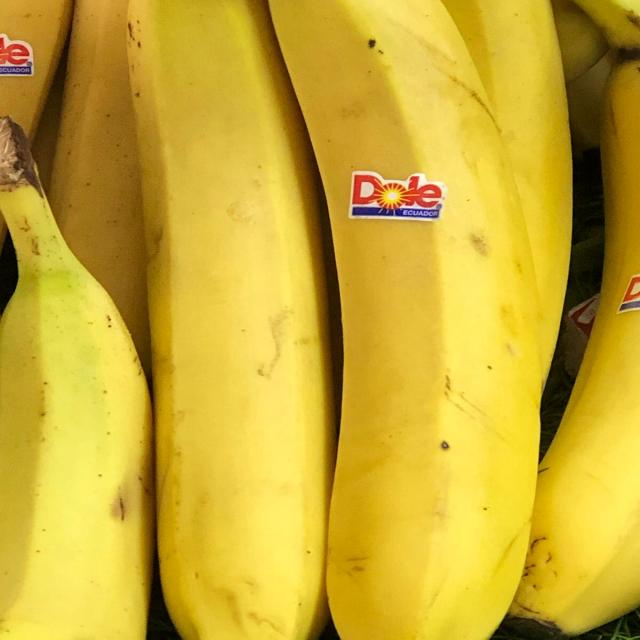banana: (260, 0, 576, 640), (114, 0, 338, 640)
